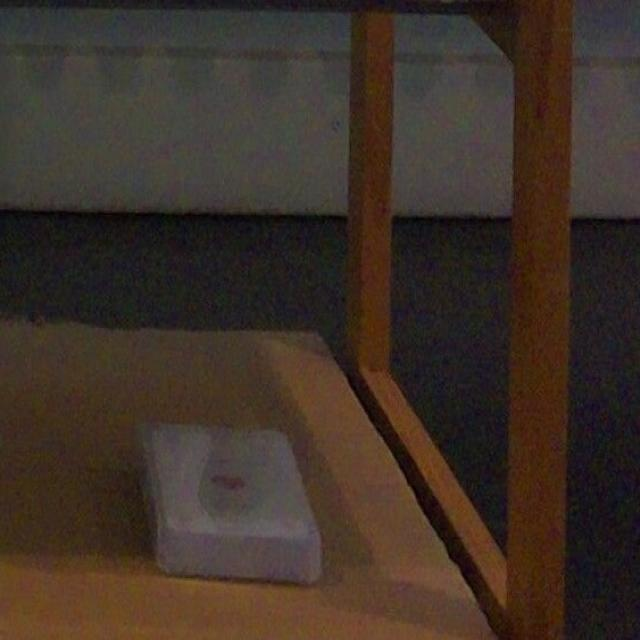Jasskarte: (140, 424, 319, 583)
